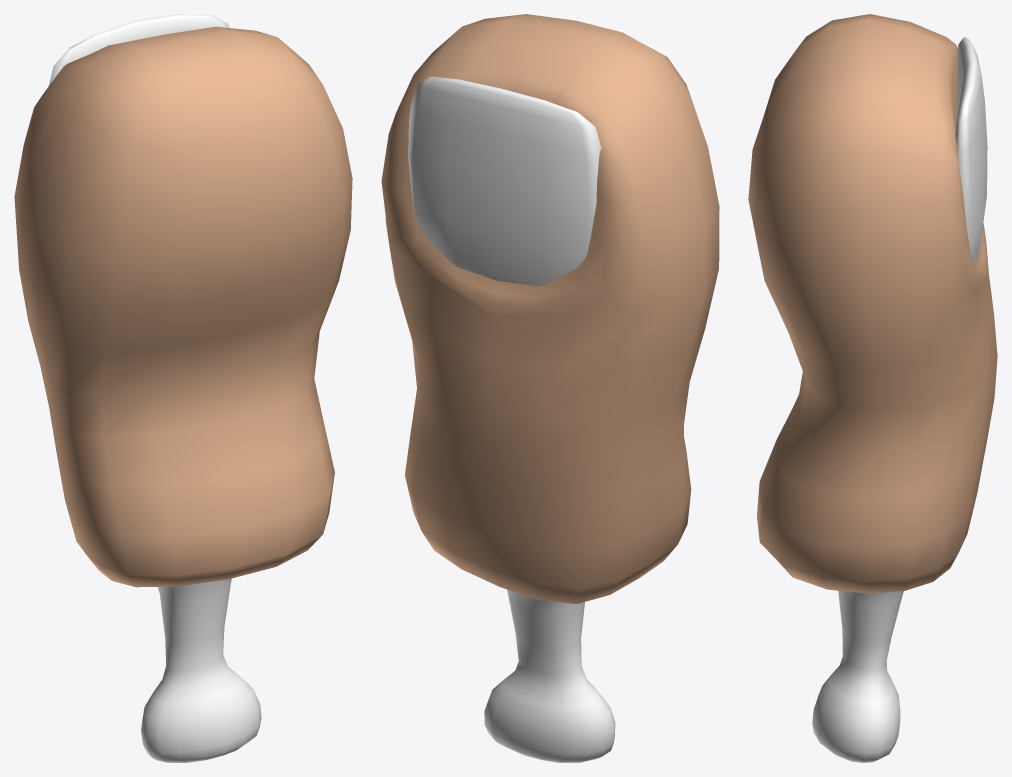
Rendered from Finger.fbx.
3 renders of one model, left to right at view 1: azimuth 30°, elevation 25°; view 2: azimuth 150°, elevation 25°; view 3: azimuth 270°, elevation 25°, orthographic. The views are drawn at different scales.
Visible parts, largest first — view 1: Cube.002; view 2: Cube.002; view 3: Cube.002.
Part boxes in pixels (bbox=[...]): Cube.002: bbox=[14, 14, 352, 762]; Cube.002: bbox=[381, 14, 719, 762]; Cube.002: bbox=[748, 14, 997, 762].
Size of the model in its own units: 53.3 by 39.22 by 122.
